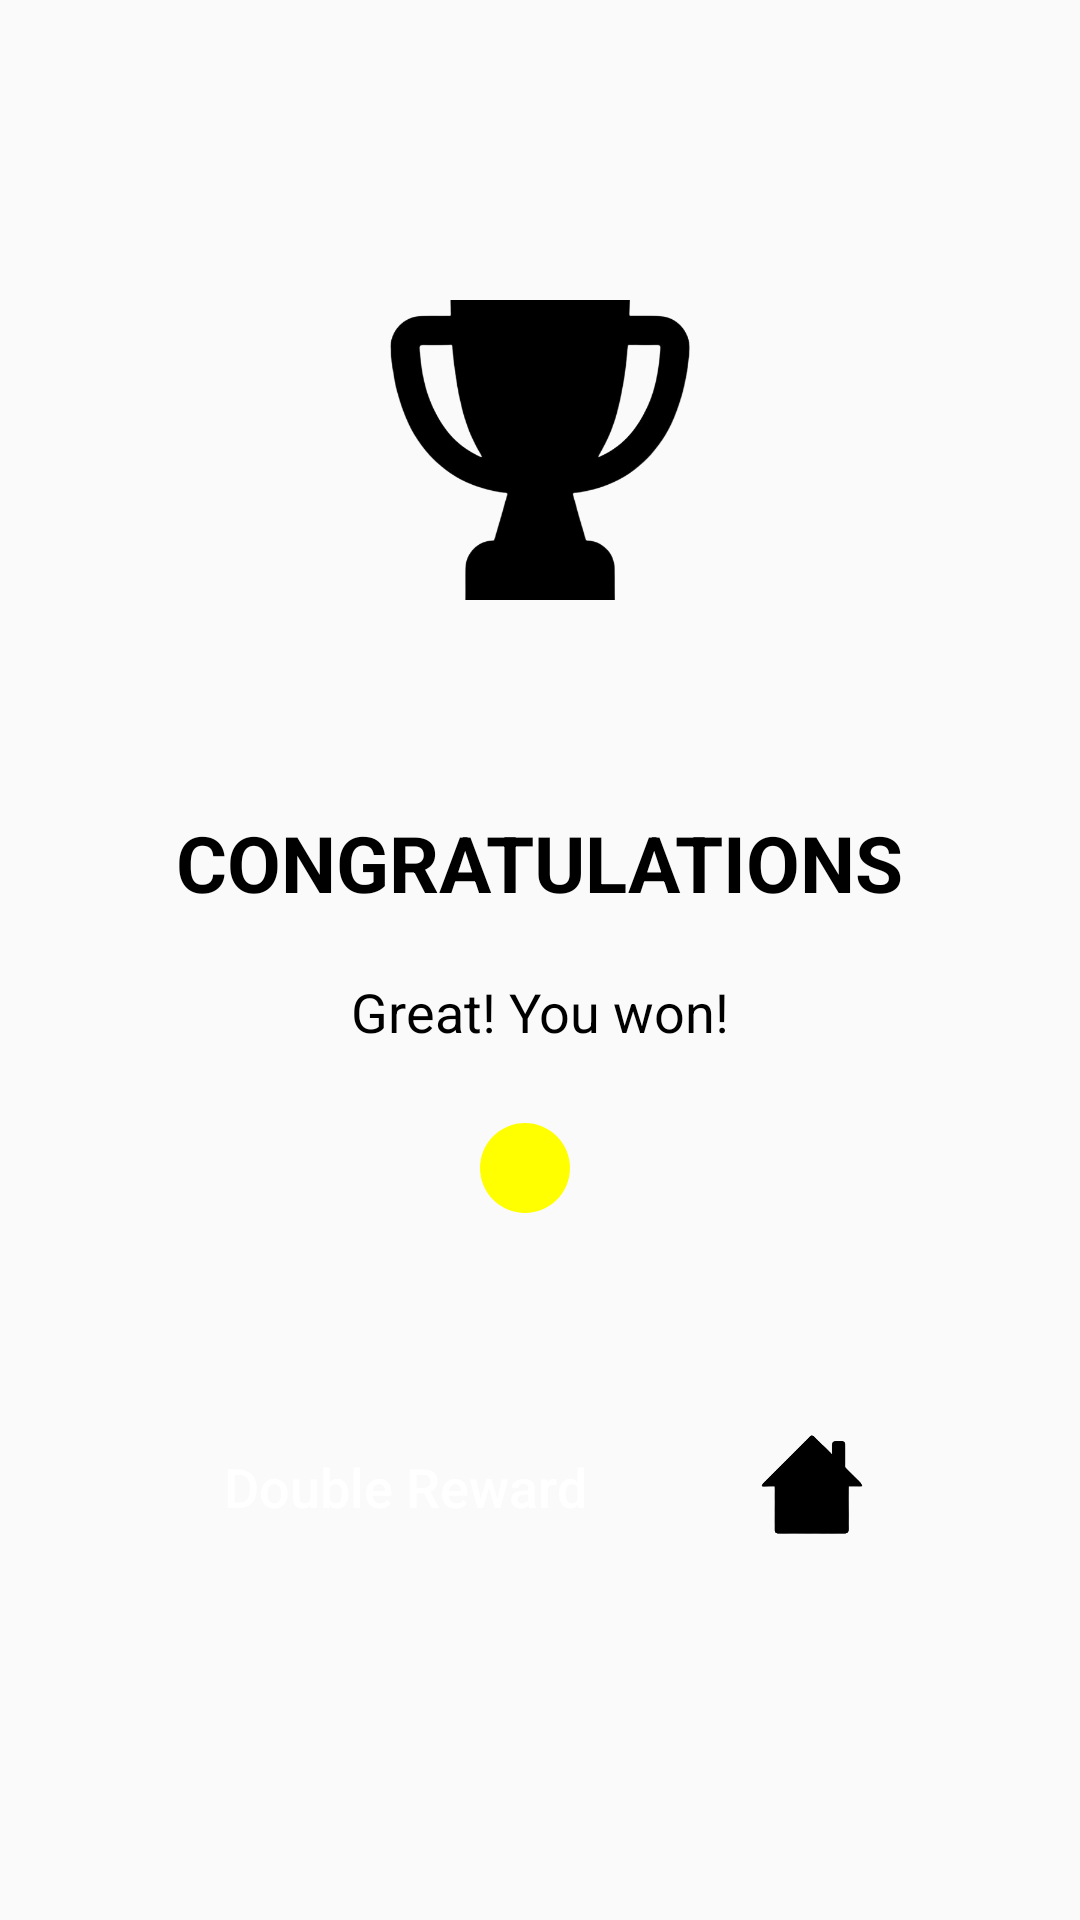

Where to tap for icons on this 1080px x 1920px app screen, as [x,y]:
home: [812,1484]
reward: [540,450]
